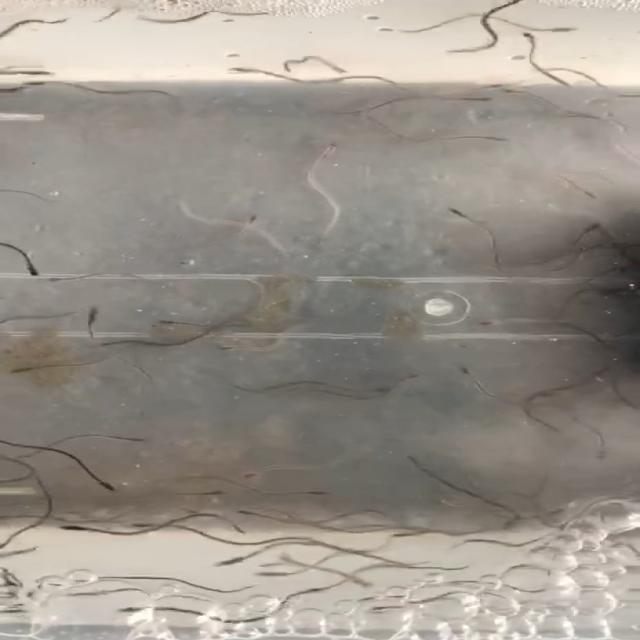active_glass_eel: (474, 309, 515, 338), (438, 201, 481, 226), (225, 62, 276, 82), (358, 377, 398, 401), (236, 207, 264, 234), (302, 486, 344, 504), (228, 465, 267, 484), (481, 128, 514, 150), (212, 340, 246, 361), (118, 438, 163, 453), (26, 76, 61, 95), (470, 88, 511, 104), (54, 522, 100, 536), (88, 336, 128, 352), (584, 447, 621, 464), (95, 472, 119, 498), (264, 572, 300, 588), (158, 313, 190, 331), (554, 24, 584, 42), (447, 357, 478, 374), (29, 262, 57, 280), (233, 505, 262, 520), (582, 193, 610, 208), (322, 139, 348, 155), (385, 531, 426, 541), (216, 554, 243, 568), (350, 578, 384, 589), (10, 363, 36, 377), (185, 486, 219, 496), (87, 306, 113, 319), (518, 28, 538, 43), (123, 602, 144, 616), (132, 520, 167, 528)
